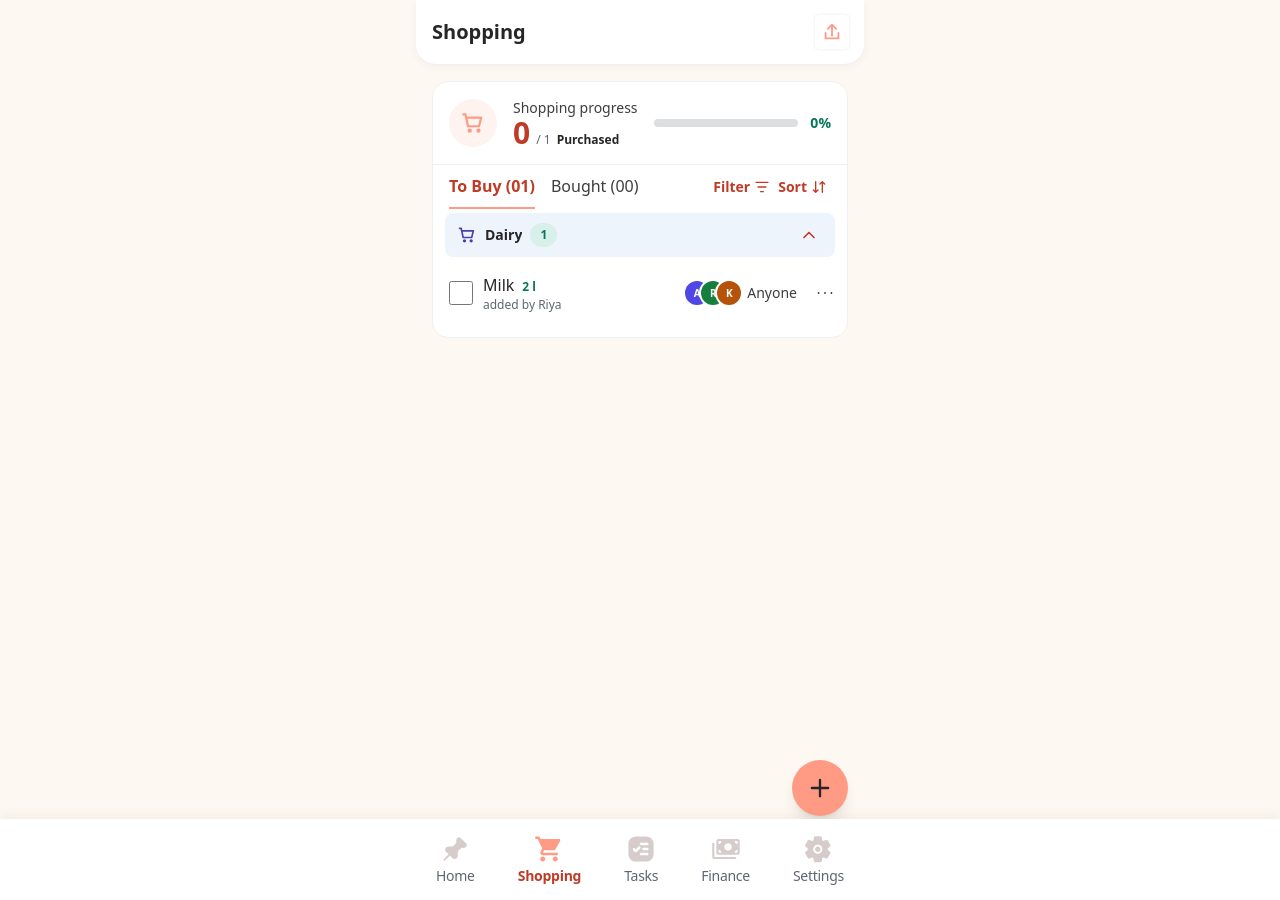
Test: add / edit sheet › a failed save keeps the sheet and every field as typed
Click the button named "Add grocery": (820, 788) [792,760,848,816]
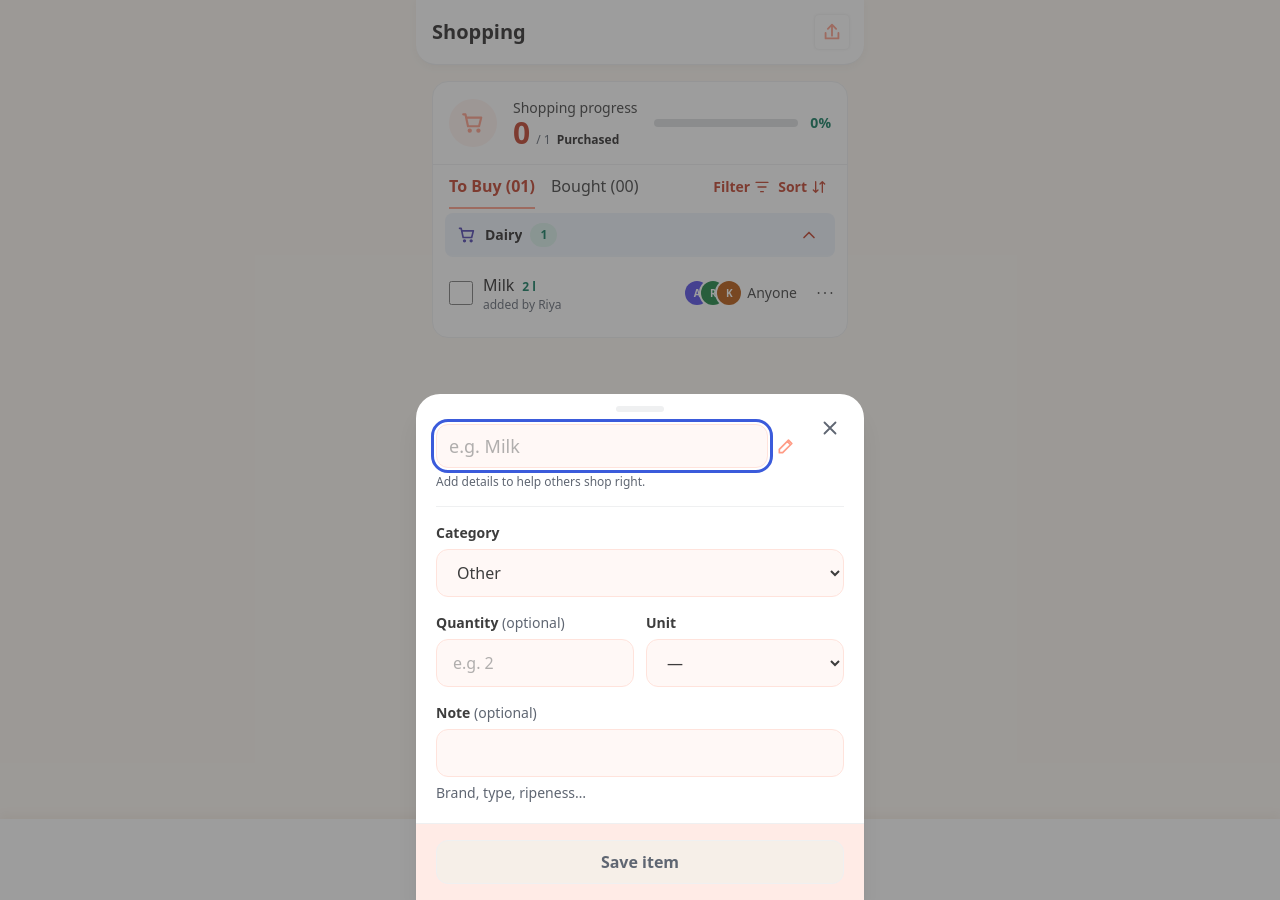
In the field named "Item name": (602, 446) [436,424,768,468], type "Rice"
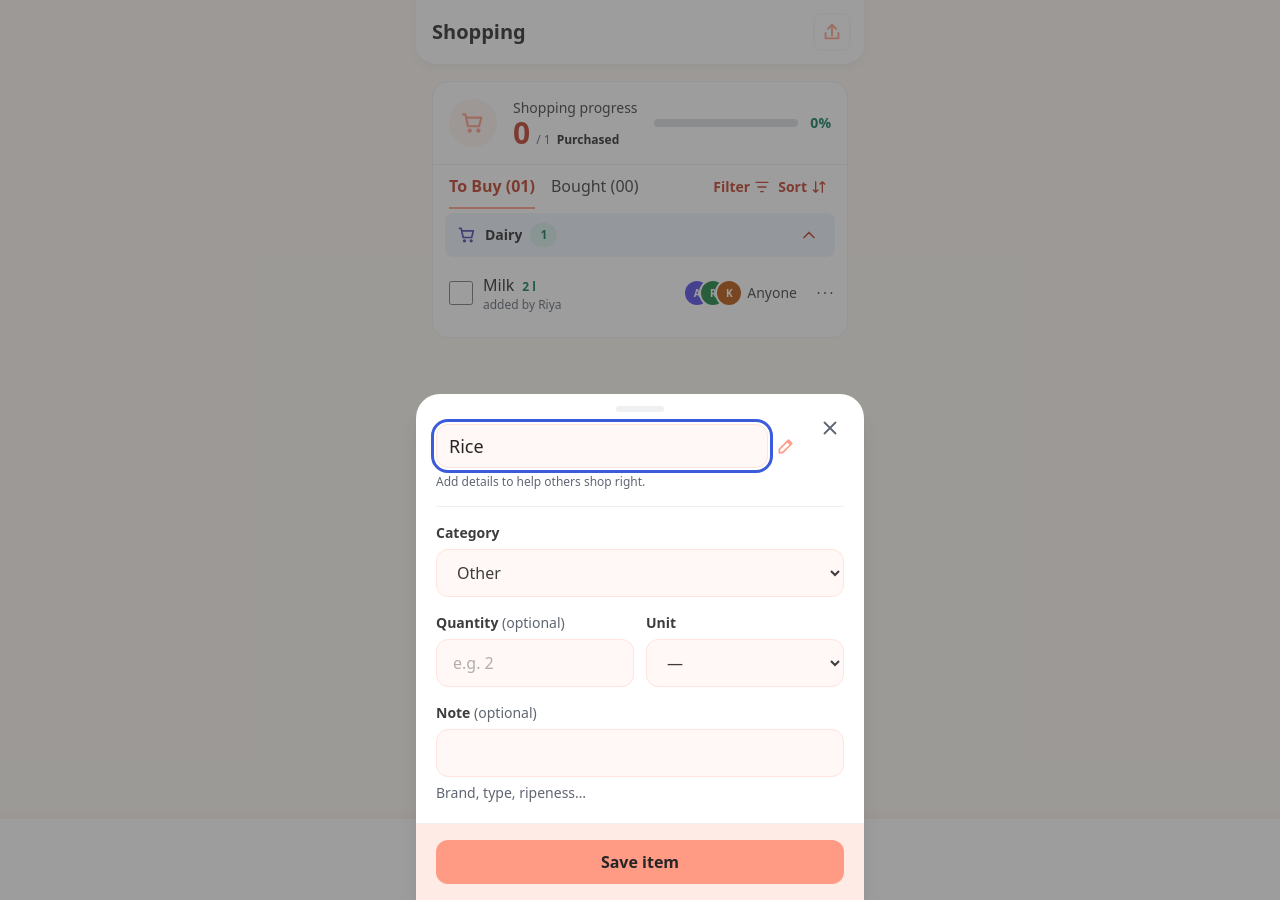
In the field labelled "Note (optional)": (640, 753) [436,729,844,777], type "basmati"
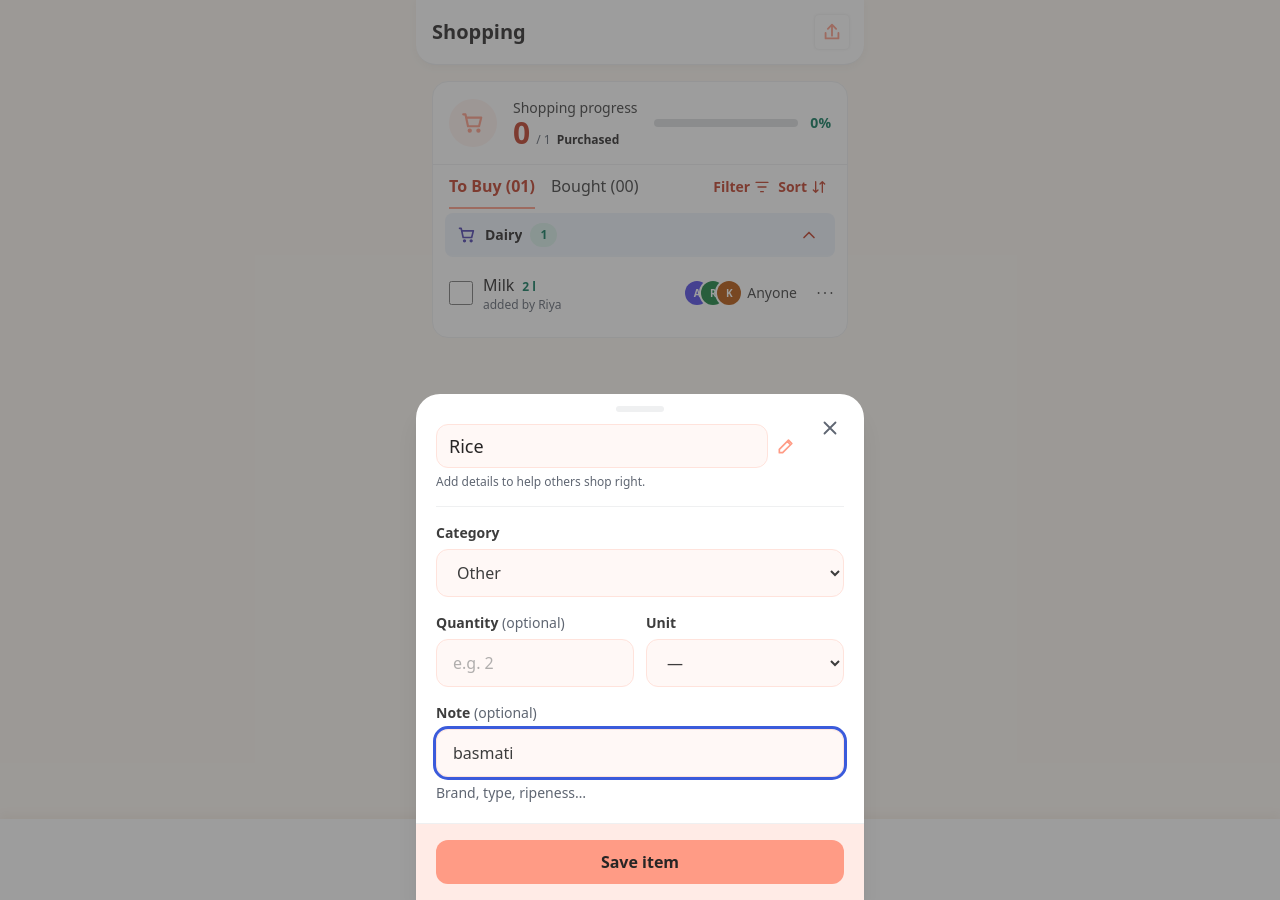
Click the button "Save item": (640, 862) [436,840,844,884]
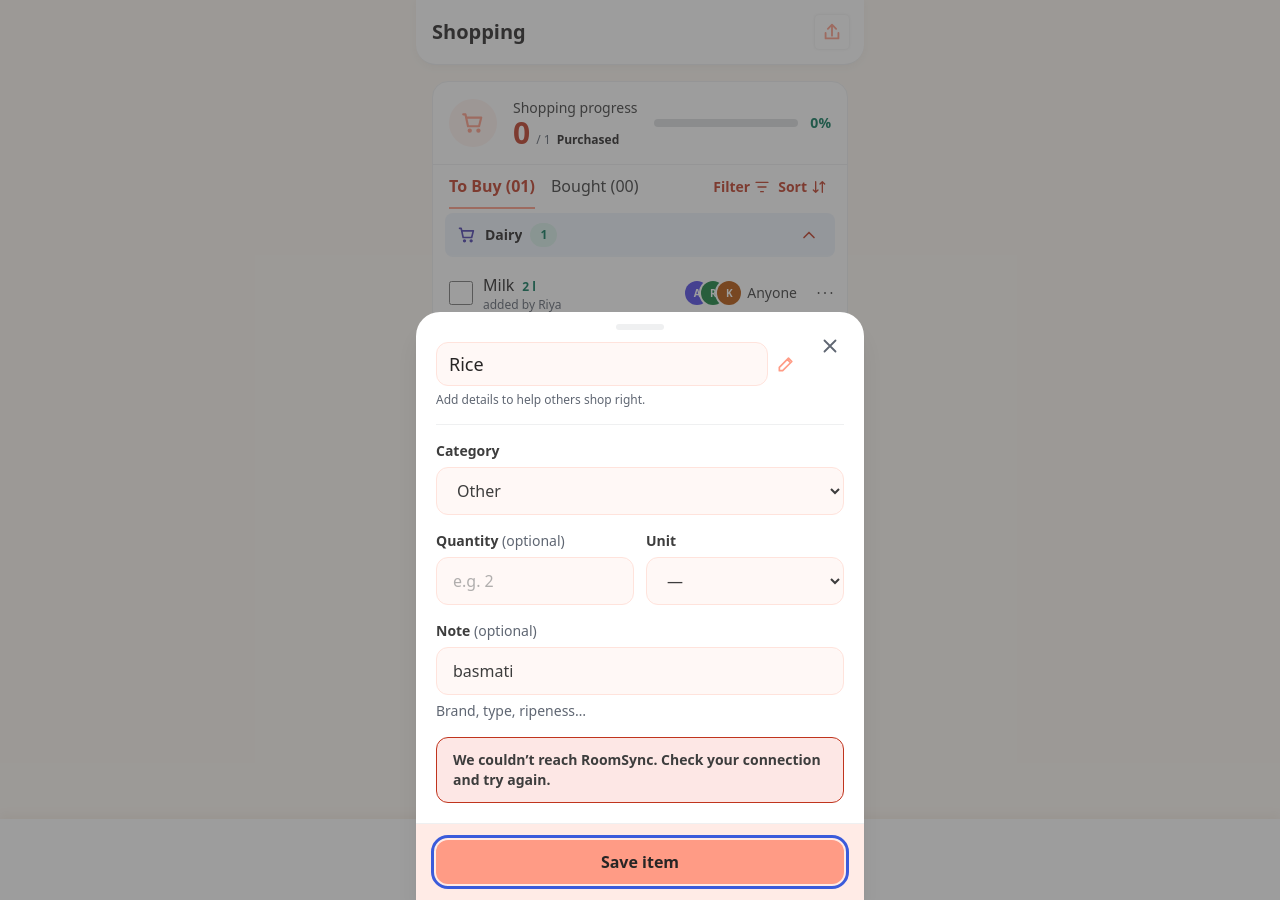
Expected: the text "We couldn’t reach RoomSync. Check your connection and try again." is shown, [436,737,844,803]
